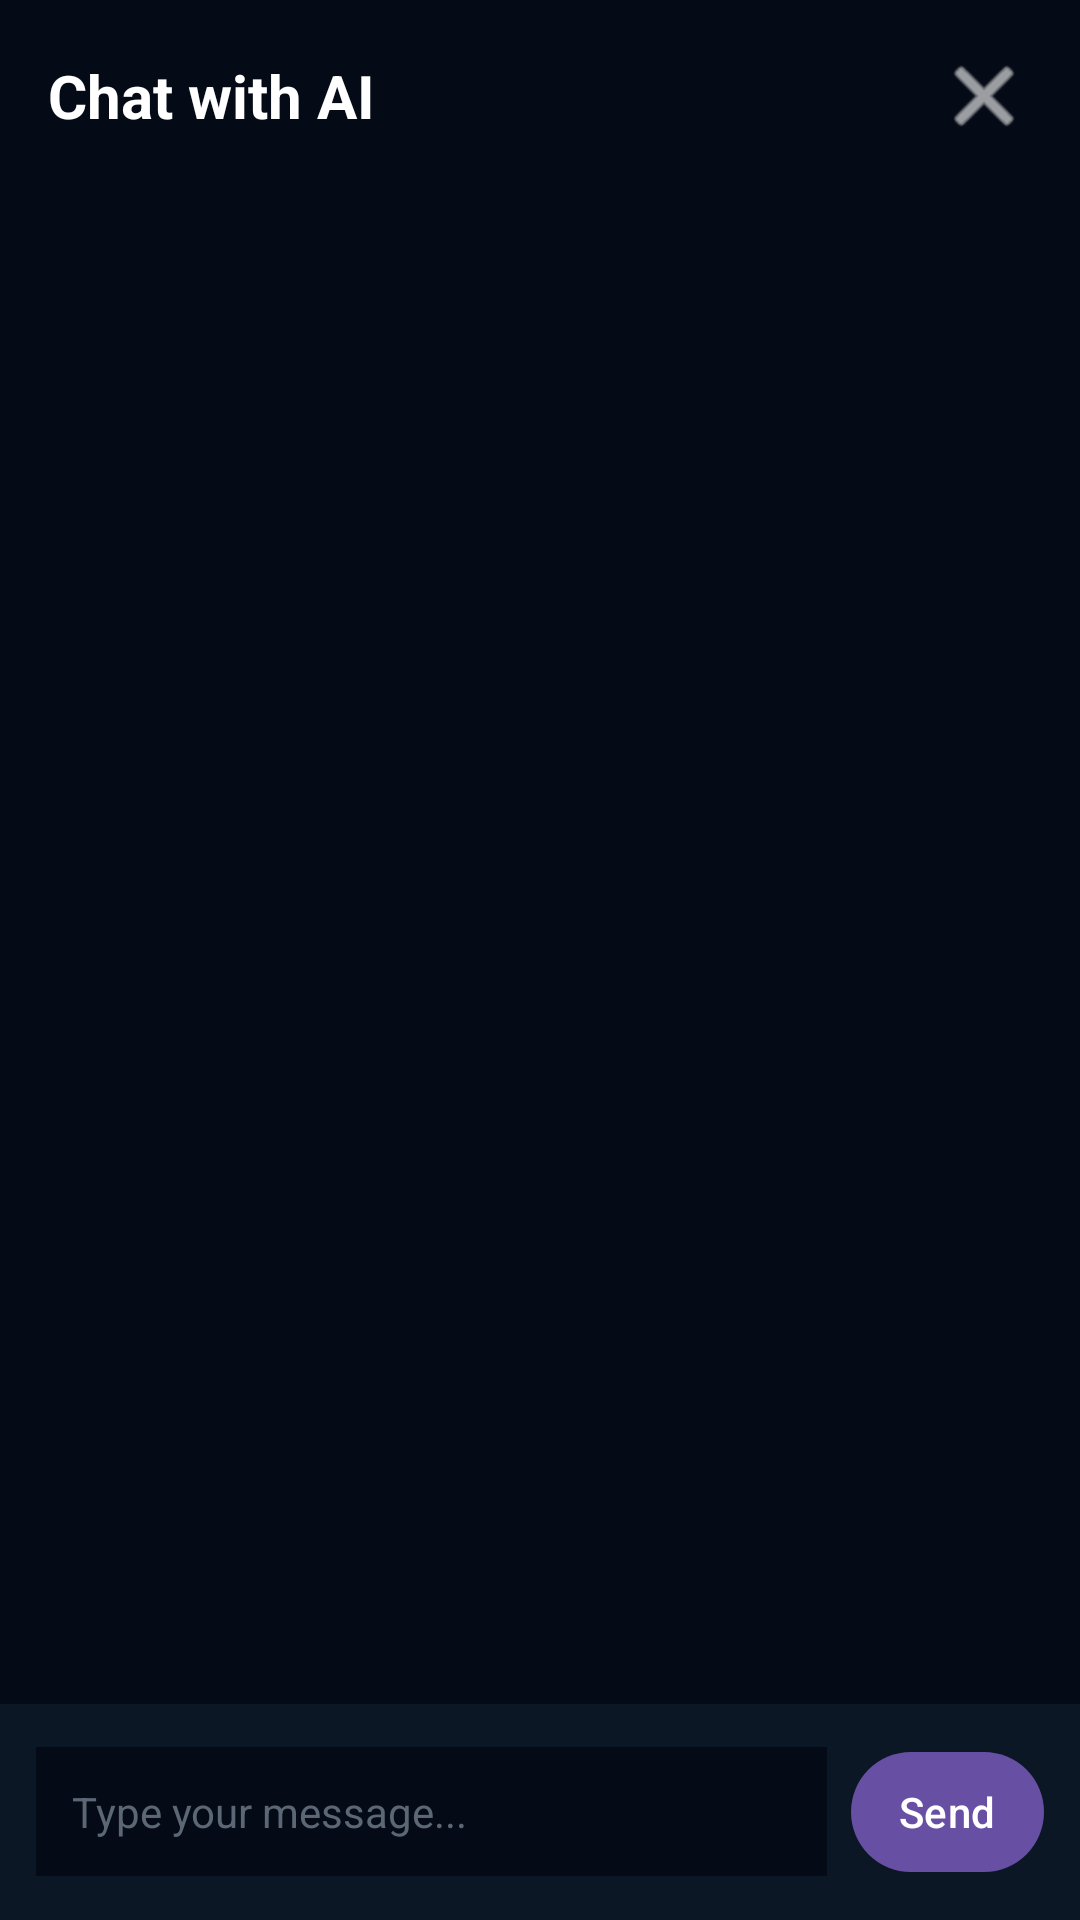

Named icons in this screenshot (1080px×1920px) and their centers, [x,y]:
Close: [984,96]
